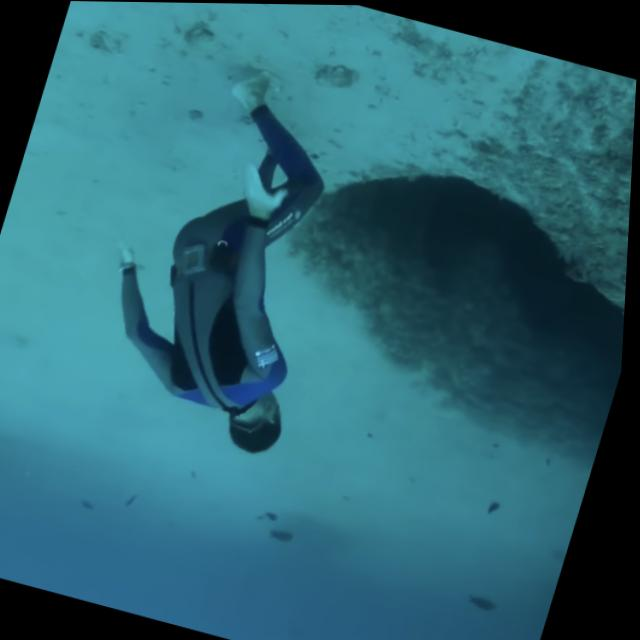human: (71, 44, 390, 466)
